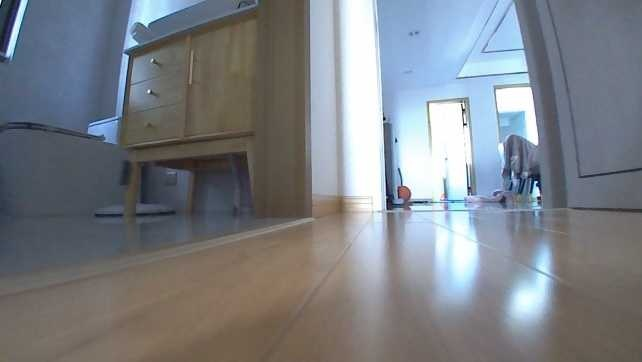door_sill: (0, 215, 315, 294)
toilet: (0, 112, 121, 223)
washstand: (117, 2, 252, 215)
